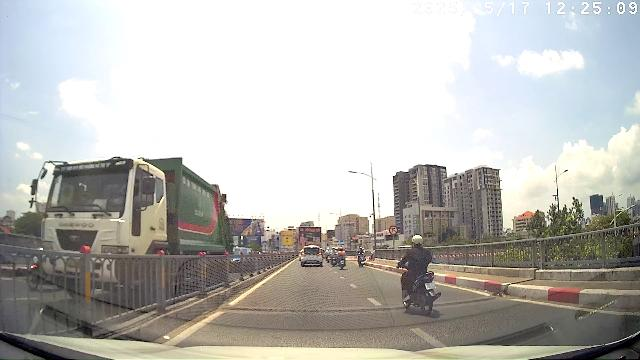123b-cam-re-phai: (388, 225, 398, 235)
